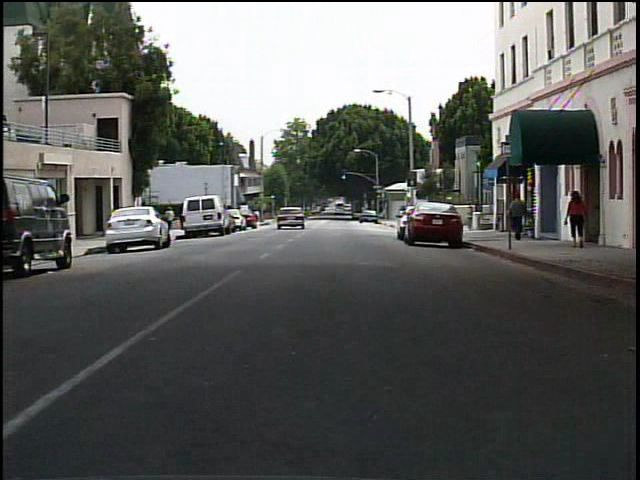person: (561, 189, 590, 248), (504, 191, 531, 242), (161, 202, 179, 234)
